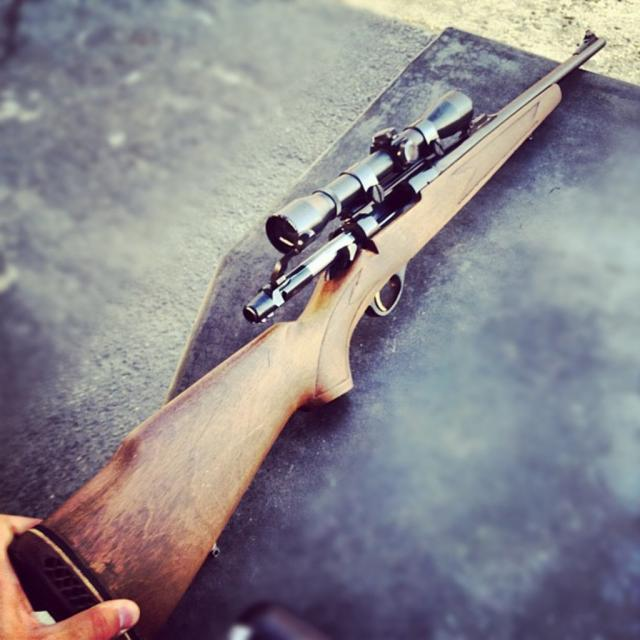weapon: (3, 25, 605, 639)
